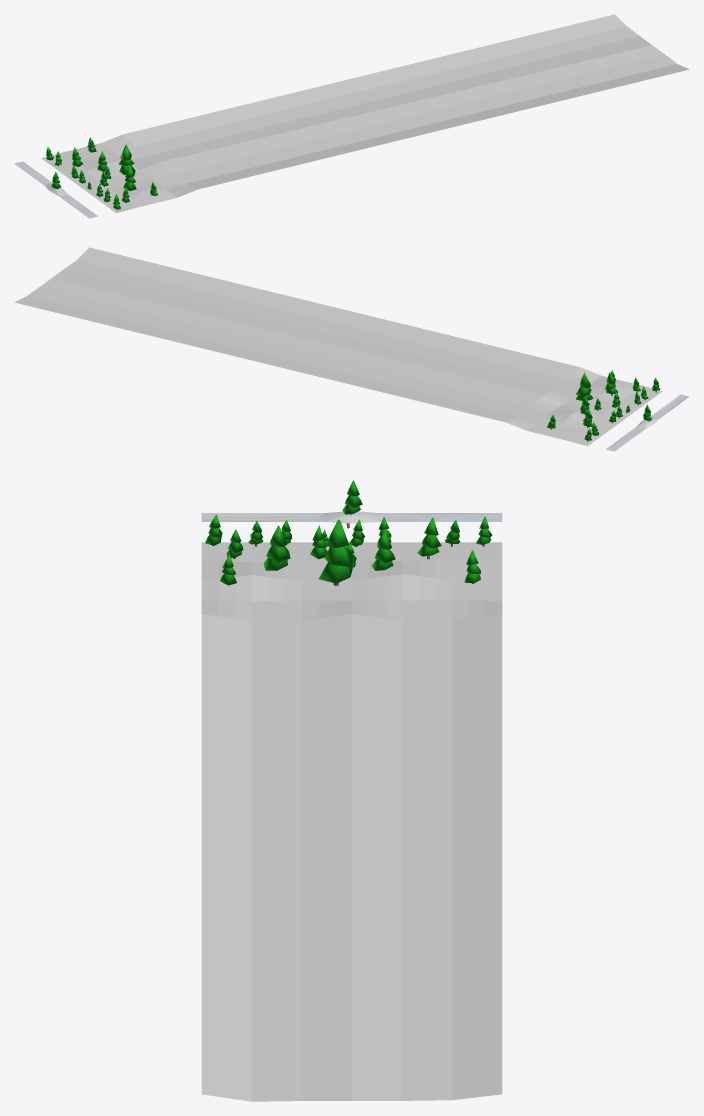
File: ski.fbx
3 views of the same model, one above another, from view 1: azimuth 30°, elevation 25°; view 2: azimuth 150°, elevation 25°; view 3: azimuth 270°, elevation 25° (orthographic). The views are drawn at different scales.
Parts seen in each view (by area): view 1: snow, trees, way_1; view 2: snow, trees, way_1; view 3: snow, trees, way_1.
Part boxes in pixels (left/top/right/bottom): snow: left=41, top=14, right=689, bottom=213; trees: left=45, top=137, right=157, bottom=210; way_1: left=14, top=161, right=97, bottom=218; snow: left=14, top=247, right=662, bottom=446; trees: left=547, top=370, right=660, bottom=441; way_1: left=606, top=394, right=689, bottom=451; snow: left=201, top=542, right=502, bottom=1101; trees: left=205, top=515, right=492, bottom=585; way_1: left=201, top=513, right=502, bottom=521.
Bounding box in the file's own units: 10496 × 612 × 2272.
